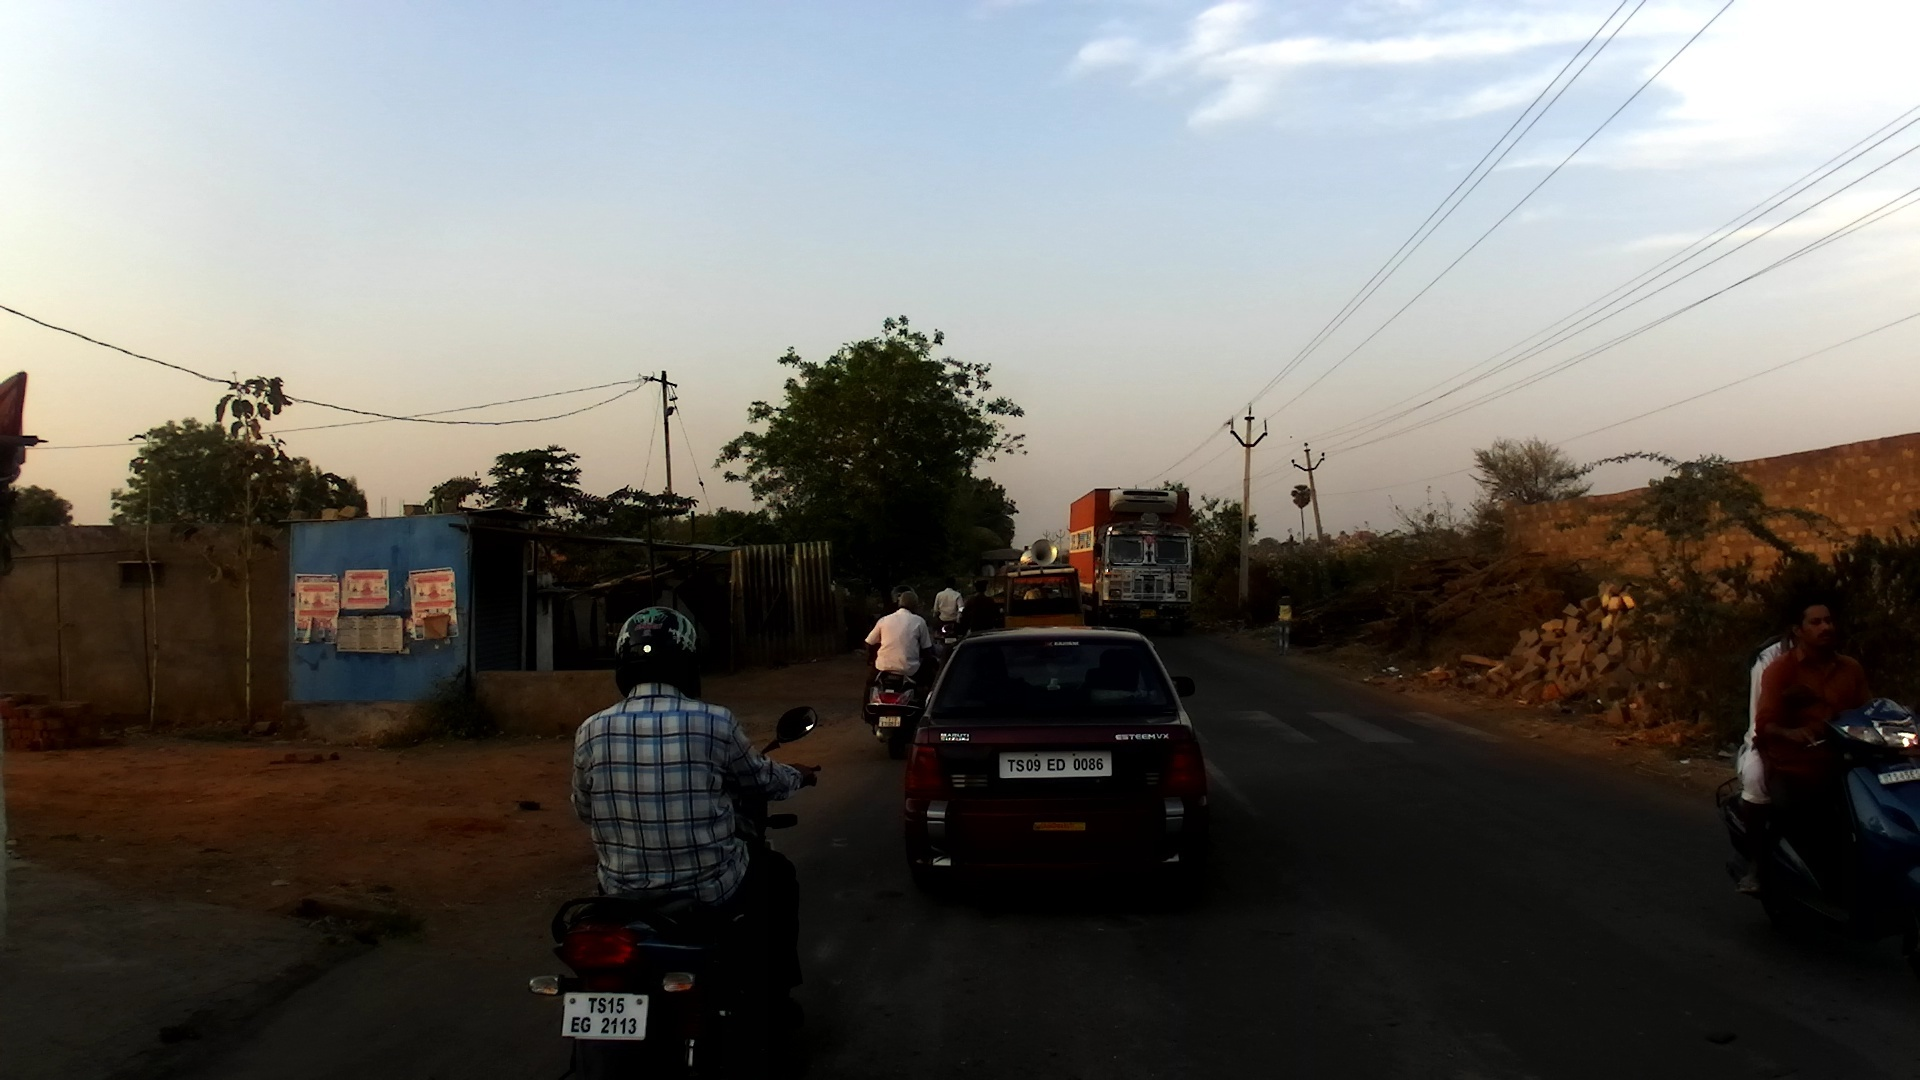autorickshaw: (997, 538, 1088, 631), (975, 543, 1026, 621)
car: (905, 628, 1209, 920)
motorcycle: (524, 705, 823, 1079), (859, 630, 946, 765), (957, 601, 1003, 637), (933, 599, 964, 647)
rider: (570, 607, 813, 1046), (859, 589, 936, 725), (872, 580, 940, 682), (956, 570, 1002, 637), (929, 579, 963, 632)
truck: (1067, 487, 1207, 629)
